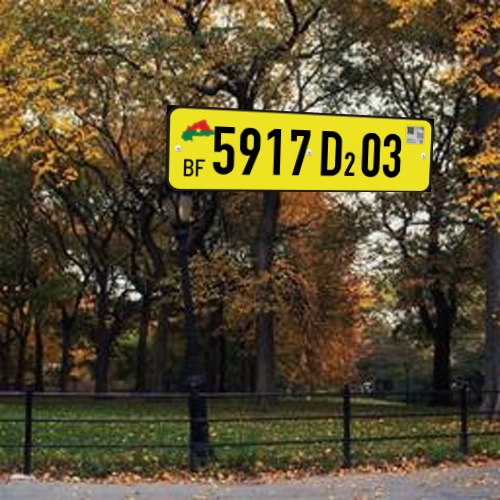plate: (152, 94, 442, 218)
